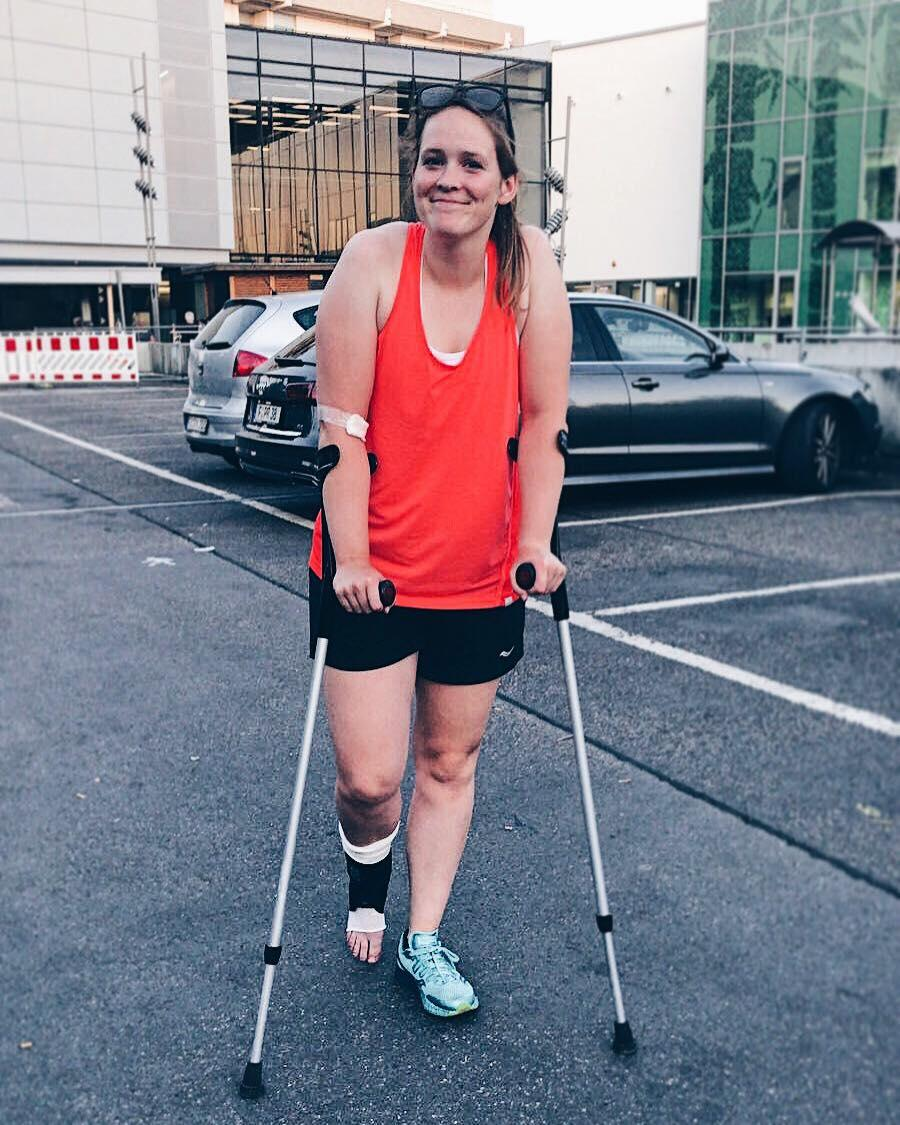crutches: (238, 84, 636, 1099)
